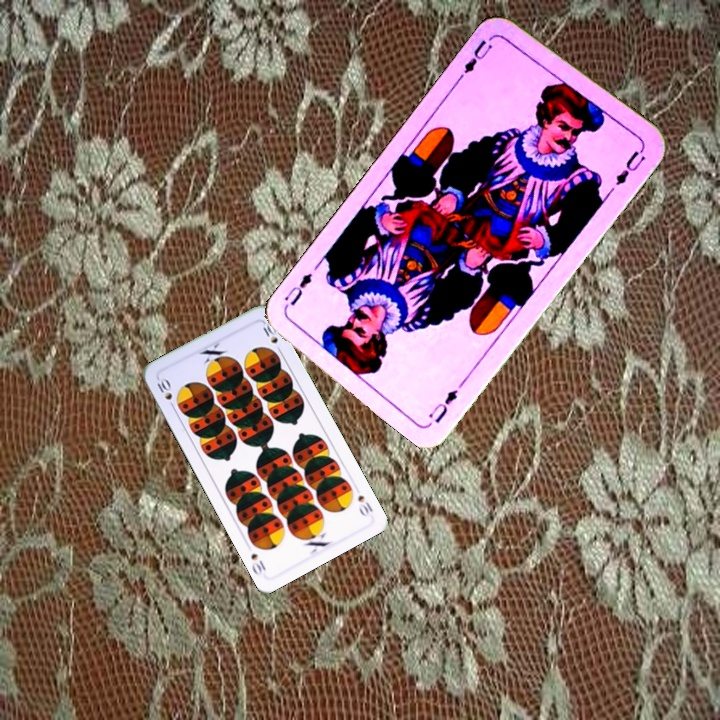EU: (459, 36, 496, 77), (424, 385, 461, 426)
S10: (152, 373, 178, 412), (354, 491, 375, 519)
